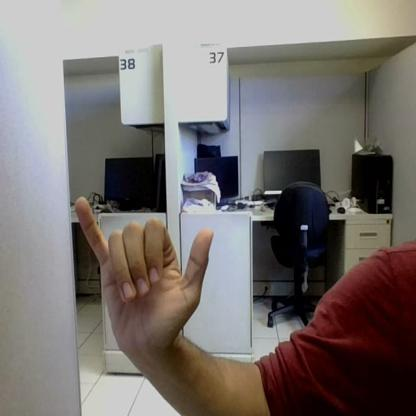Y: (76, 196, 212, 343)
